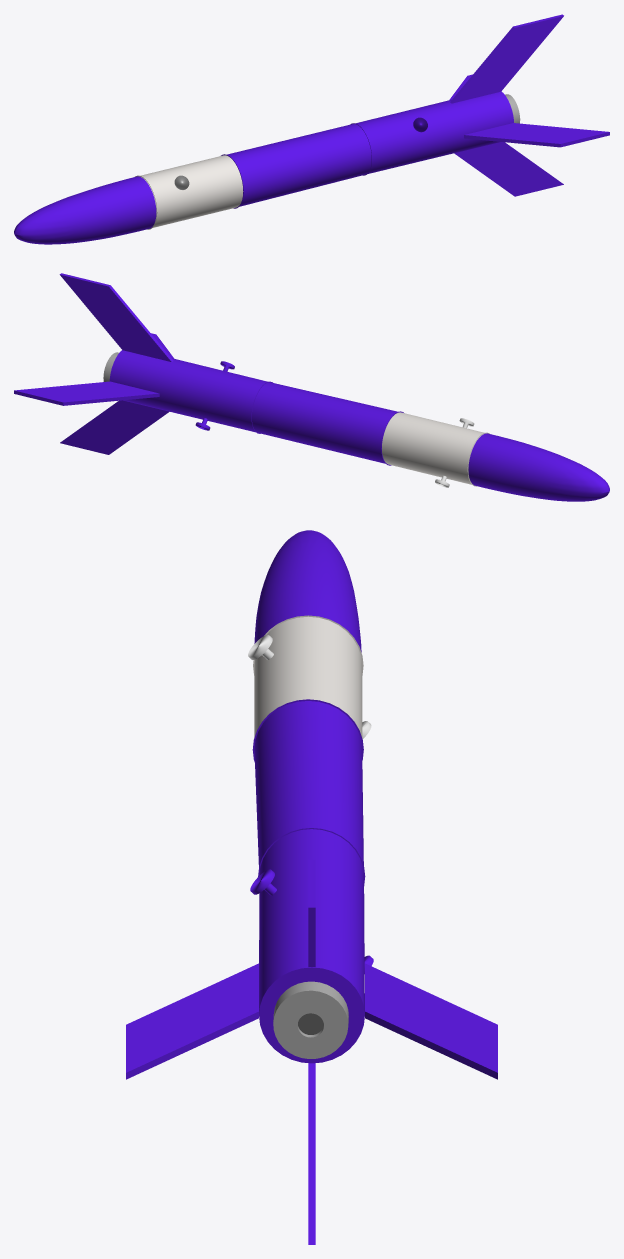
File: rocket.gltf
3 views of the same model, one above another, from view 1: azimuth 30°, elevation 25°; view 2: azimuth 150°, elevation 25°; view 3: azimuth 270°, elevation 25° (orthographic). The views are drawn at different scales.
Visible parts, largest first — view 1: trup, finy; view 2: trup, finy; view 3: trup, finy, motor.
Part boxes in pixels (left/top/right/bottom): trup: left=14, top=91, right=513, bottom=244; finy: left=449, top=14, right=609, bottom=196; trup: left=109, top=350, right=609, bottom=501; finy: left=14, top=273, right=174, bottom=454; trup: left=252, top=530, right=365, bottom=1063; finy: left=126, top=859, right=497, bottom=1244; motor: left=273, top=981, right=348, bottom=1058.
Bounding box in the file's own units: 0.6668 × 0.1958 × 0.1958.
